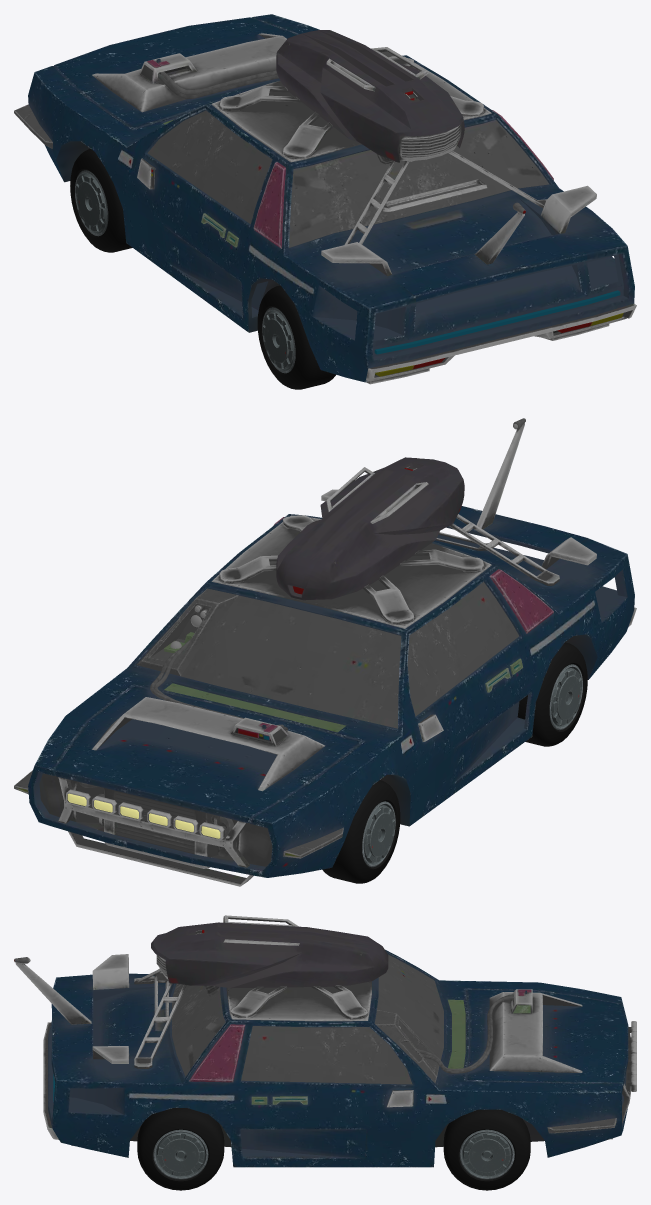
File: night-cruiser.glb
3 views of the same model, one above another, from view 1: azimuth 30°, elevation 25°; view 2: azimuth 150°, elevation 25°; view 3: azimuth 270°, elevation 25° (orthographic). The views are drawn at different scales.
Visible parts, largest first — view 1: body, wheel-rear-left, wheel-front-left; view 2: body, wheel-front-left, wheel-rear-left; view 3: body, wheel-rear-right, wheel-front-right.
Boxes of the visible parts, x1=… form: body: x1=14, y1=14, x2=636, y2=384; wheel-rear-left: x1=257, y1=285, x2=335, y2=389; wheel-front-left: x1=70, y1=149, x2=132, y2=252; body: x1=14, y1=418, x2=636, y2=886; wheel-front-left: x1=322, y1=780, x2=400, y2=883; wheel-rear-left: x1=517, y1=642, x2=587, y2=746; body: x1=14, y1=915, x2=636, y2=1167; wheel-rear-right: x1=137, y1=1108, x2=224, y2=1190; wheel-front-right: x1=443, y1=1109, x2=530, y2=1190.
Bounding box in the file's own units: 2.08 × 1.7 × 4.6.
Materials: 2 (2 with a texture image).
